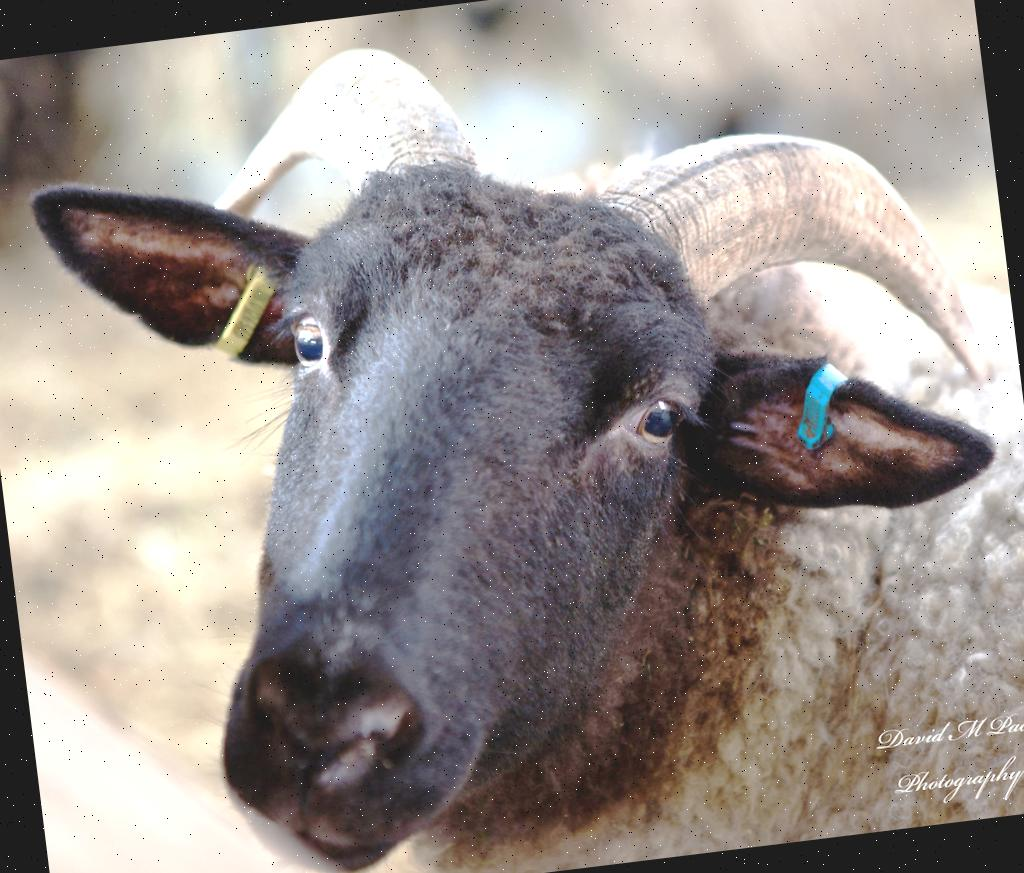Sheep: (17, 0, 1024, 873)
